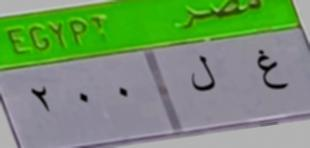0: (113, 79, 133, 106), (75, 84, 92, 109)
2: (30, 82, 54, 116)
ghayn: (245, 45, 292, 94)
laam: (188, 51, 216, 100)
